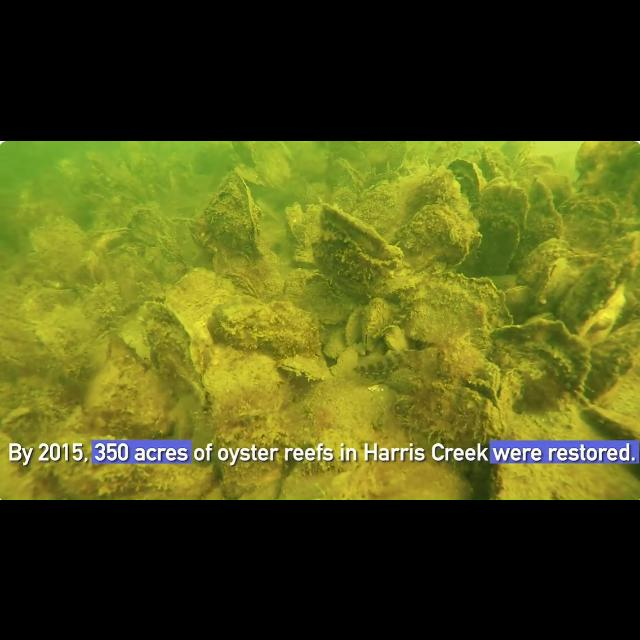Oyster-Closed: (389, 376, 508, 482), (39, 430, 217, 500), (396, 266, 516, 350), (484, 317, 592, 393), (206, 298, 324, 354), (141, 303, 209, 397), (198, 170, 264, 260), (393, 200, 473, 270), (210, 352, 286, 424), (161, 252, 231, 318), (476, 182, 532, 238), (574, 286, 628, 344), (77, 362, 129, 418), (28, 220, 88, 266), (105, 243, 158, 295), (388, 178, 469, 212), (514, 232, 572, 278), (598, 223, 640, 284), (576, 402, 640, 441), (480, 213, 518, 270), (128, 205, 170, 249), (497, 278, 541, 316), (448, 154, 486, 196), (152, 233, 188, 271), (86, 334, 114, 372), (346, 304, 368, 344), (322, 328, 348, 360), (64, 347, 84, 383), (383, 327, 413, 347)
Oyster-Open: (312, 206, 404, 296), (568, 140, 640, 204), (532, 259, 578, 311), (357, 291, 395, 353), (280, 350, 334, 390), (260, 432, 306, 463), (217, 270, 260, 302), (83, 222, 135, 245), (2, 403, 36, 431)
